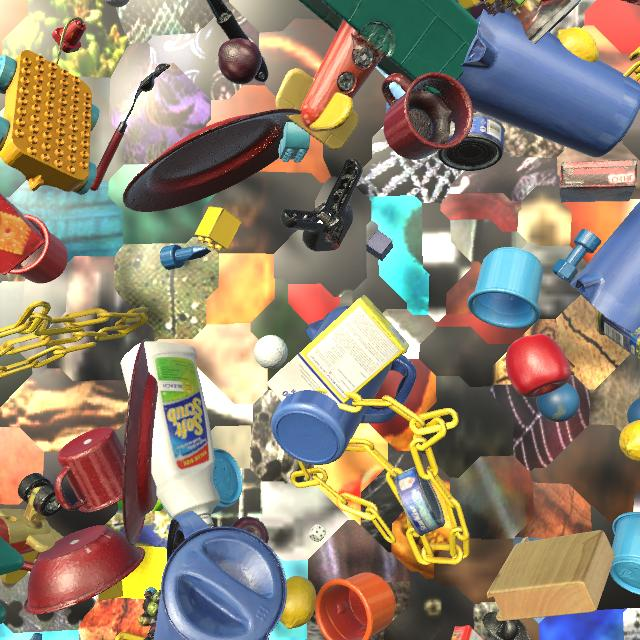ycb_003_cracker_box: (0, 192, 45, 275)
ycb_004_sugar_box: (266, 295, 409, 404)
ycb_007_tuna_fish_can: (437, 113, 505, 171), (394, 466, 445, 536)
ycb_008_pudding_box: (559, 160, 637, 202)
ycb_009_gelatin_box: (451, 625, 484, 640), (621, 0, 640, 5)
ycb_010_potted_meat_can: (596, 311, 640, 360)
ycb_013_apple: (506, 334, 571, 398)
ycb_014_lemon: (280, 576, 317, 629), (556, 27, 599, 62), (619, 420, 640, 462)
ycb_018_plum: (218, 38, 262, 85), (230, 517, 269, 544)
